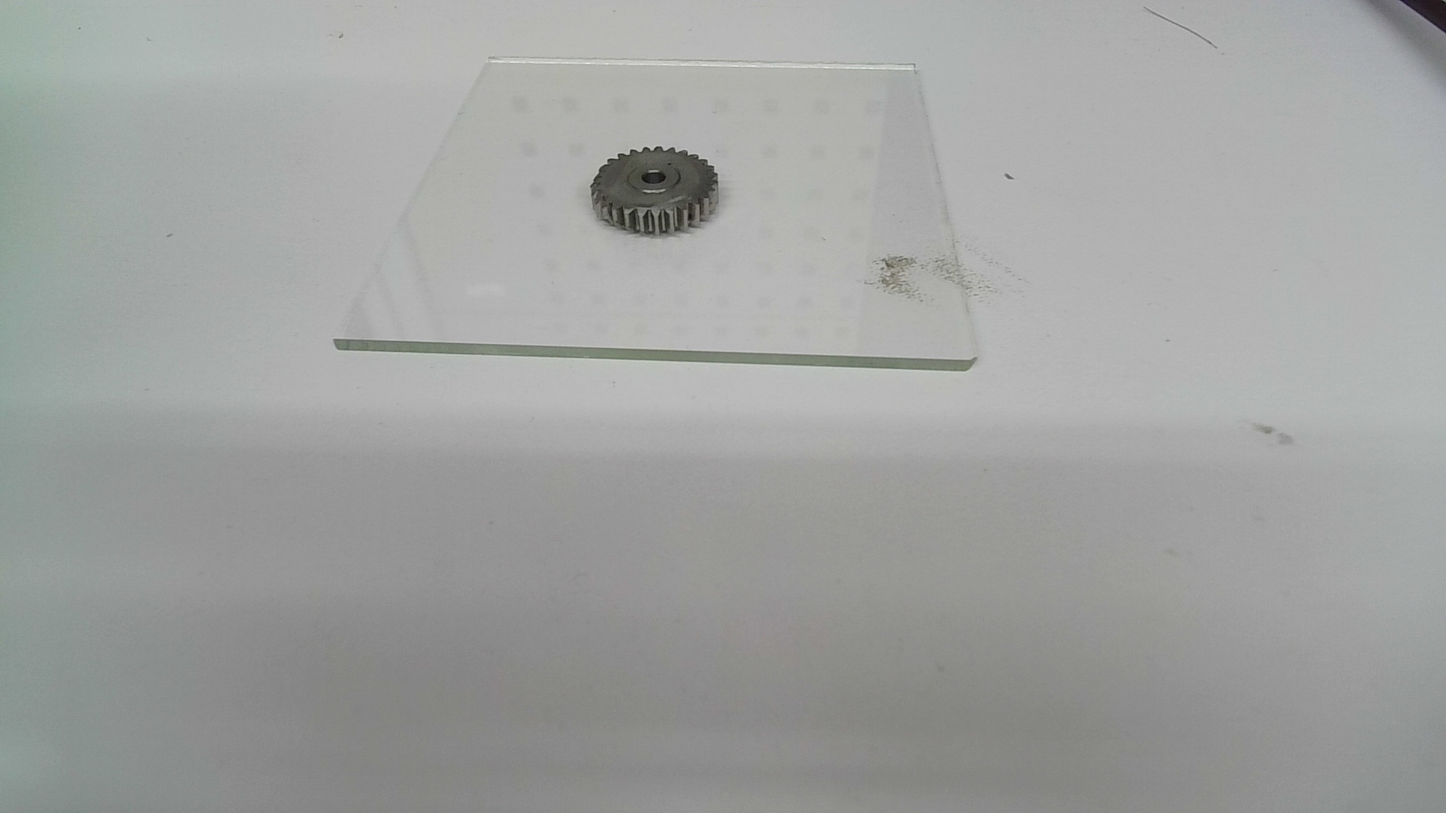gear: (588, 143, 724, 237)
